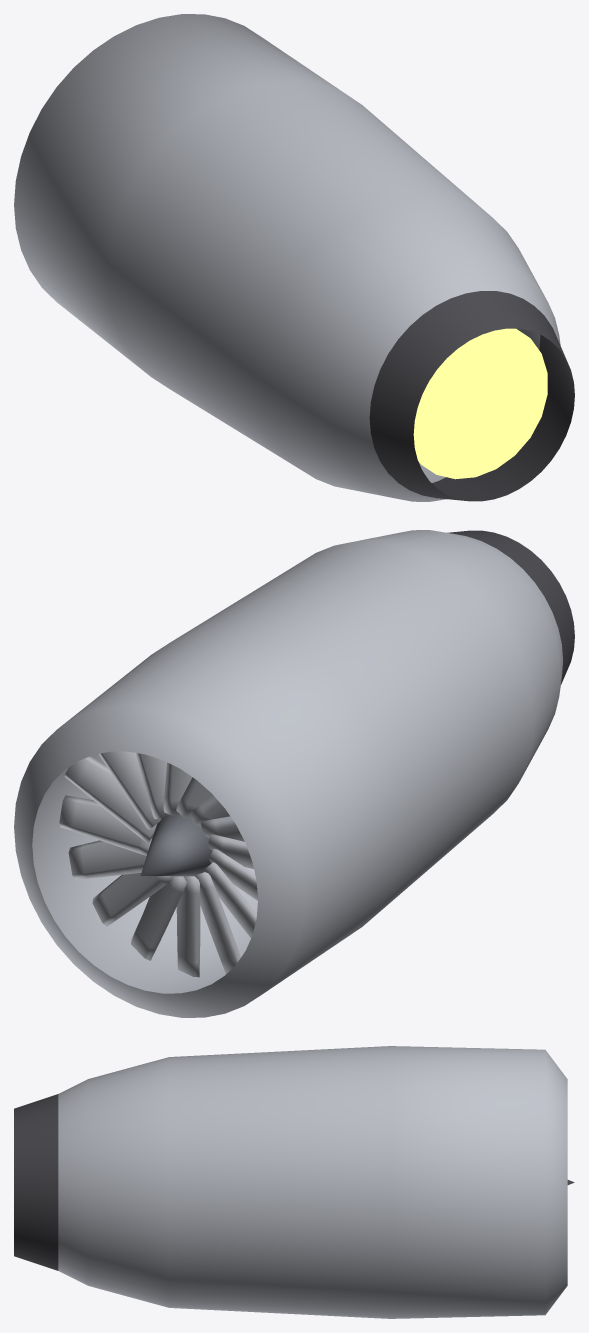
Rendered from thruster.glb.
3 renders of one model, top to bottom at view 1: azimuth 30°, elevation 25°; view 2: azimuth 150°, elevation 25°; view 3: azimuth 270°, elevation 25°, orthographic. The views are drawn at different scales.
Visible parts, largest first — view 1: thruster; view 2: thruster, Prop; view 3: thruster.
Part boxes in pixels (x1=…): thruster: x1=14, y1=14, x2=574, y2=501; thruster: x1=14, y1=530, x2=574, y2=1017; Prop: x1=59, y1=751, x2=257, y2=977; thruster: x1=14, y1=1046, x2=567, y2=1318.
Size of the model in its own units: 0.74 by 0.74 by 1.52.
